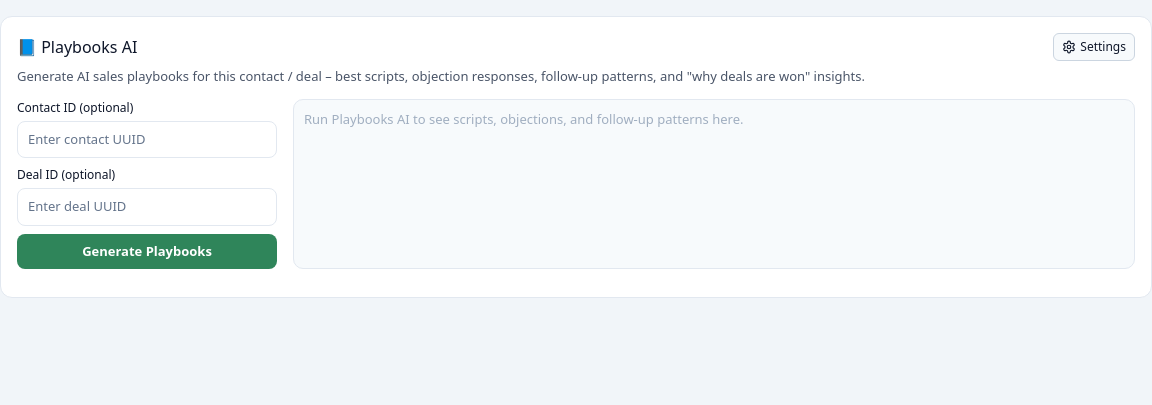
PlaybooksPanel › Result Display › should display summary when provided
Type "contact-456" into the field with placeholder "Enter contact UUID" at (147, 139), box left=17, top=120, right=277, bottom=158
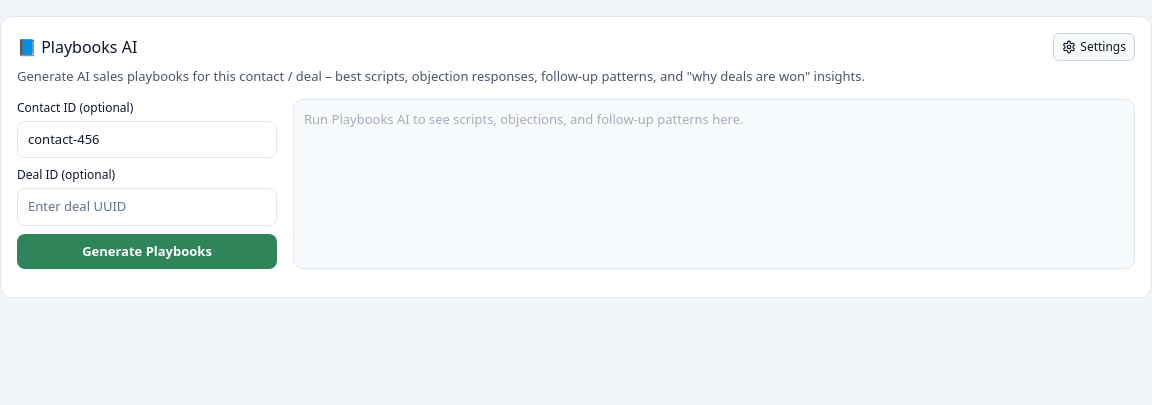
Click the button "Generate Playbooks" at (147, 251), box left=17, top=234, right=277, bottom=269
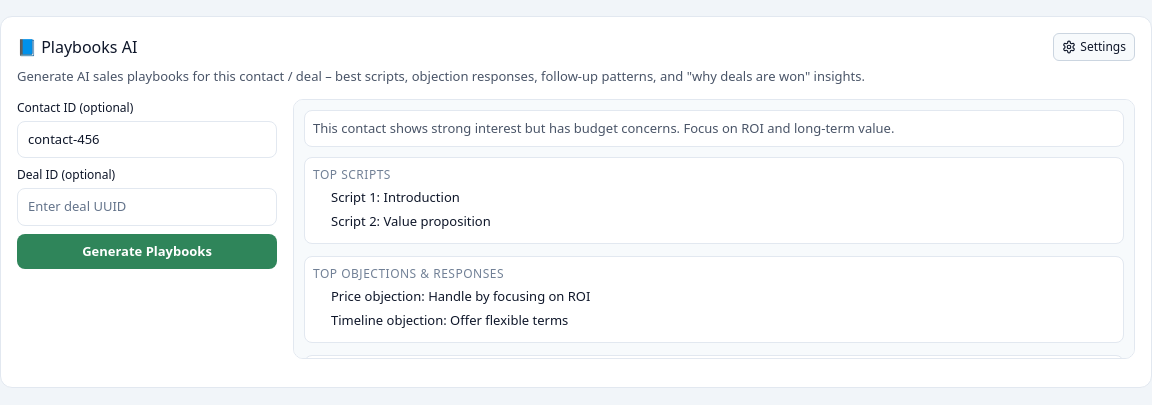
Expected: the text "Top Scripts" is shown, left=313, top=166, right=391, bottom=183
Expected: the text "This contact shows strong interest but has budget concerns. Focus on ROI and long-term value." is shown, left=313, top=118, right=894, bottom=136
